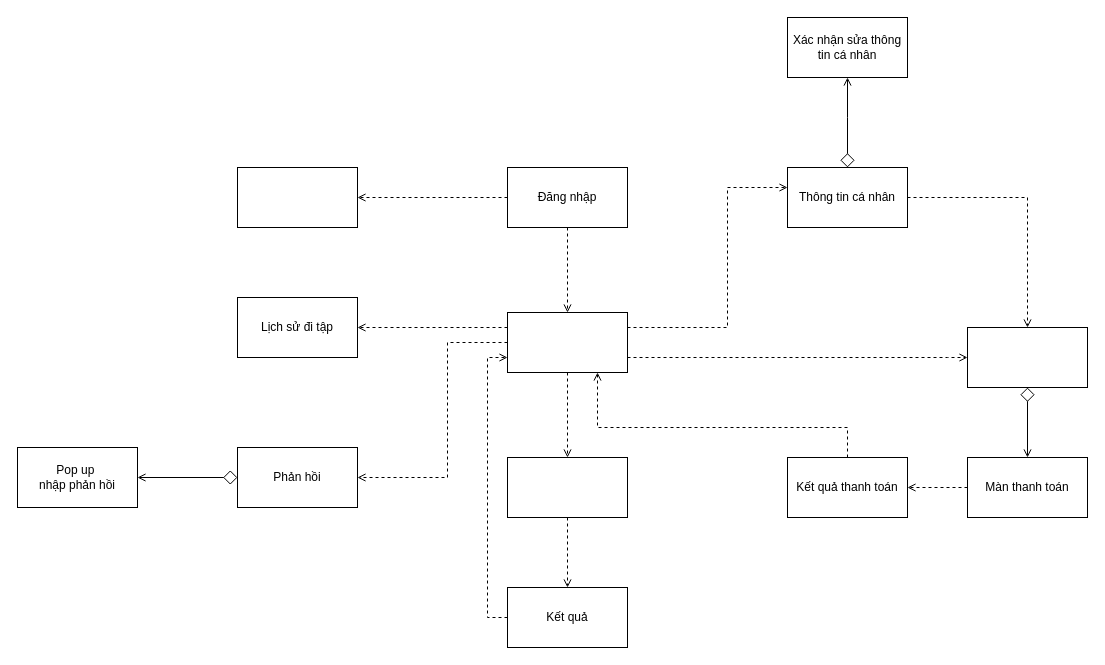
Image size: 1105x665. Some labels were removed from this diagram. Here are the shapes that lost their labels. From the top down, the centre of each, then its label:
At (x=297, y=197): "Đăng ký".
At (x=567, y=342): "Trang chủ".
At (x=1027, y=357): "Danh sách gói tập".
At (x=567, y=487): "Đổi mật khẩu".
